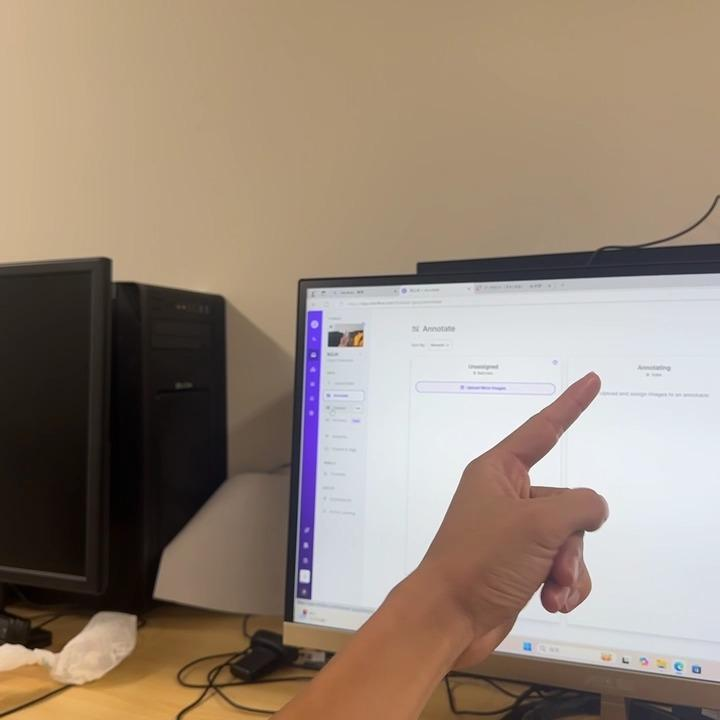without_gloves: (401, 312, 698, 669)
